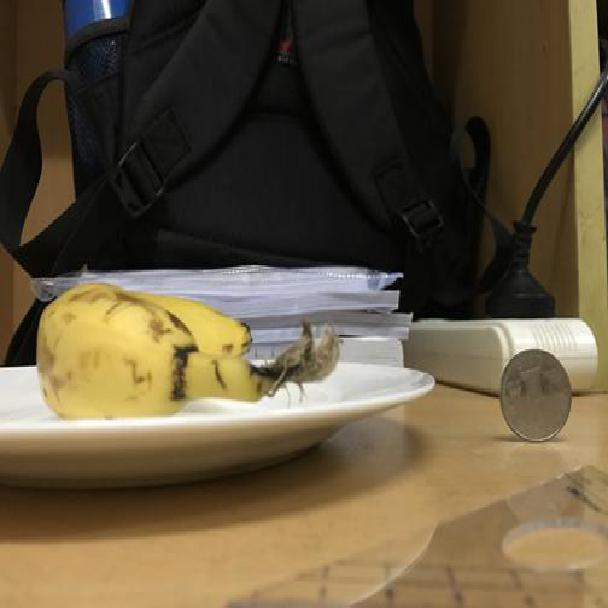banana: (40, 283, 335, 418)
